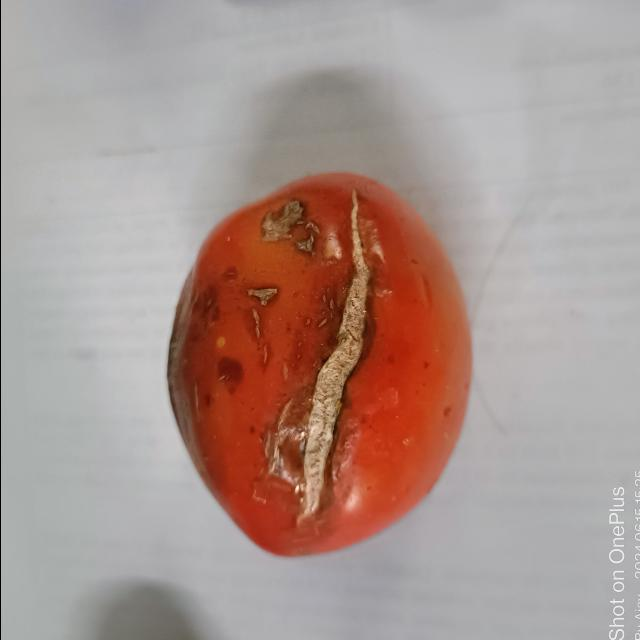tomato_cracking: (263, 184, 373, 532)
